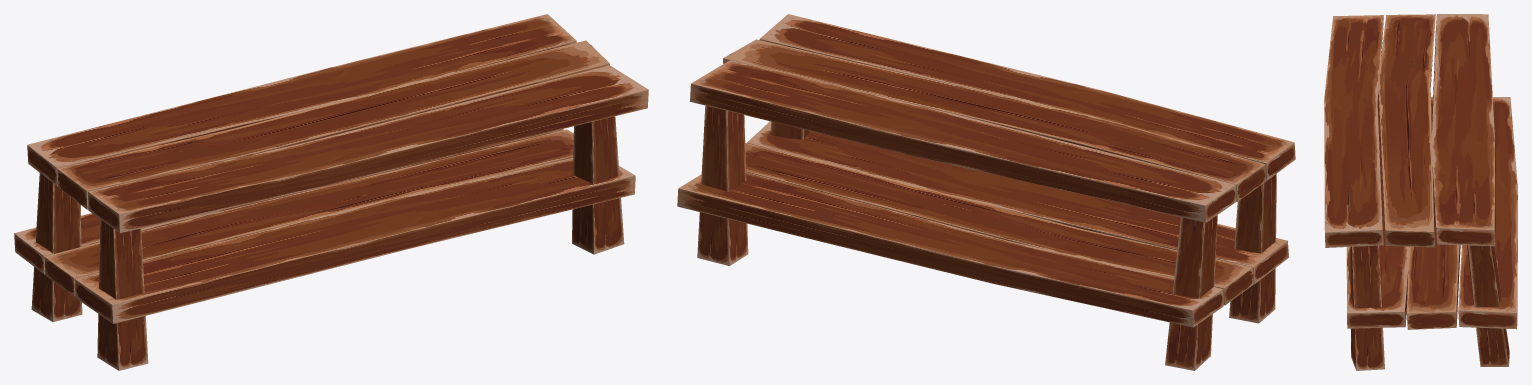
File: SM_PROP_market_shelf_01.fbx
3 renders of one model, left to right at view 1: azimuth 30°, elevation 25°; view 2: azimuth 150°, elevation 25°; view 3: azimuth 270°, elevation 25°, orthographic. The views are drawn at different scales.
Parts seen in each view (by area): view 1: SM_PROP_market_shelf_01; view 2: SM_PROP_market_shelf_01; view 3: SM_PROP_market_shelf_01.
Boxes of the visible parts, box(x1,y1,x2,y2) form: SM_PROP_market_shelf_01: box(14, 14, 648, 370); SM_PROP_market_shelf_01: box(677, 14, 1295, 370); SM_PROP_market_shelf_01: box(1324, 14, 1517, 370).
Size of the model in its own units: 316 by 96.97 by 119.
